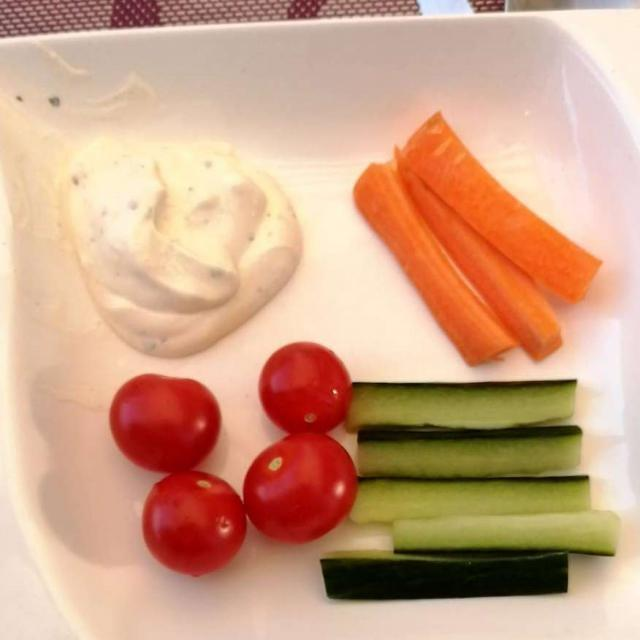carrot: (366, 115, 596, 364)
cream-cheese: (69, 140, 298, 357)
cucumber: (313, 374, 614, 586)
tomato: (127, 346, 355, 577)
